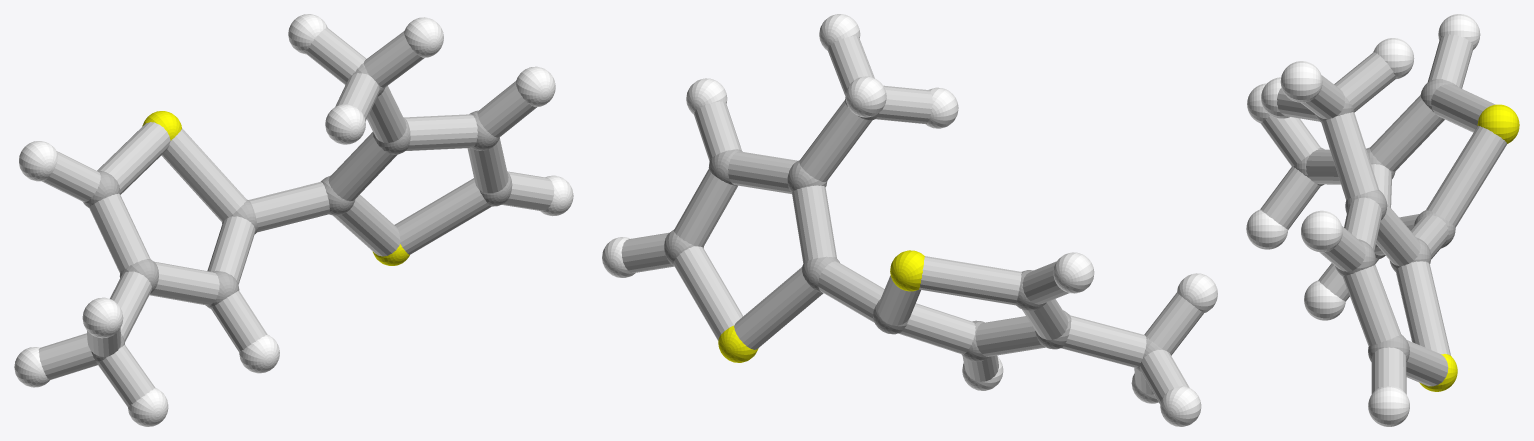
The model's file is Methylthiophene_Phi_30_Theta_70_Methylthiophene.glb.
3 views of the same model, side by side, from view 1: azimuth 30°, elevation 25°; view 2: azimuth 150°, elevation 25°; view 3: azimuth 270°, elevation 25° (orthographic). The views are drawn at different scales.
Parts seen in each view (by area): view 1: grp7965, grp3621, grp1, grp7241; view 2: grp7965, grp3621, grp1, grp7241; view 3: grp7965, grp3621, grp1, grp7241.
Part boxes in pixels (x1=…): grp7965: x1=38, y1=27, x2=554, y2=406; grp3621: x1=14, y1=14, x2=573, y2=426; grp1: x1=83, y1=63, x2=512, y2=363; grp7241: x1=142, y1=111, x2=409, y2=265; grp7965: x1=621, y1=36, x2=1203, y2=404; grp3621: x1=602, y1=14, x2=1217, y2=426; grp1: x1=664, y1=97, x2=1162, y2=372; grp7241: x1=718, y1=250, x2=924, y2=362; grp7965: x1=1260, y1=34, x2=1507, y2=394; grp3621: x1=1246, y1=14, x2=1480, y2=426; grp1: x1=1293, y1=79, x2=1457, y2=361; grp7241: x1=1419, y1=104, x2=1519, y2=391.
Size of the model in its own units: 9.7 by 5.25 by 3.91.
